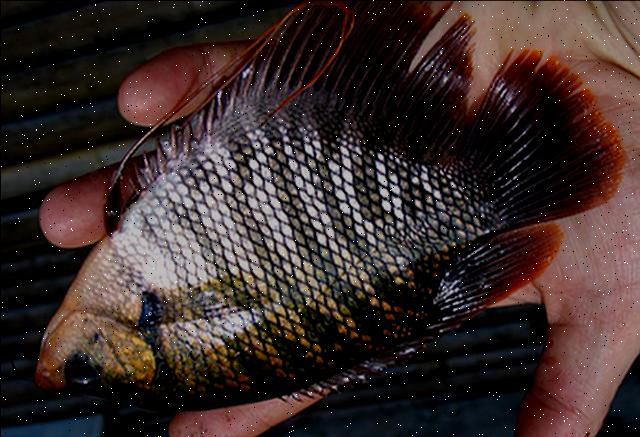Mulut: (16, 324, 72, 410)
Sirip Dada: (115, 262, 291, 336)
Sirip Ekor: (456, 31, 630, 231)
Sirip Punggung: (260, 213, 572, 421)
